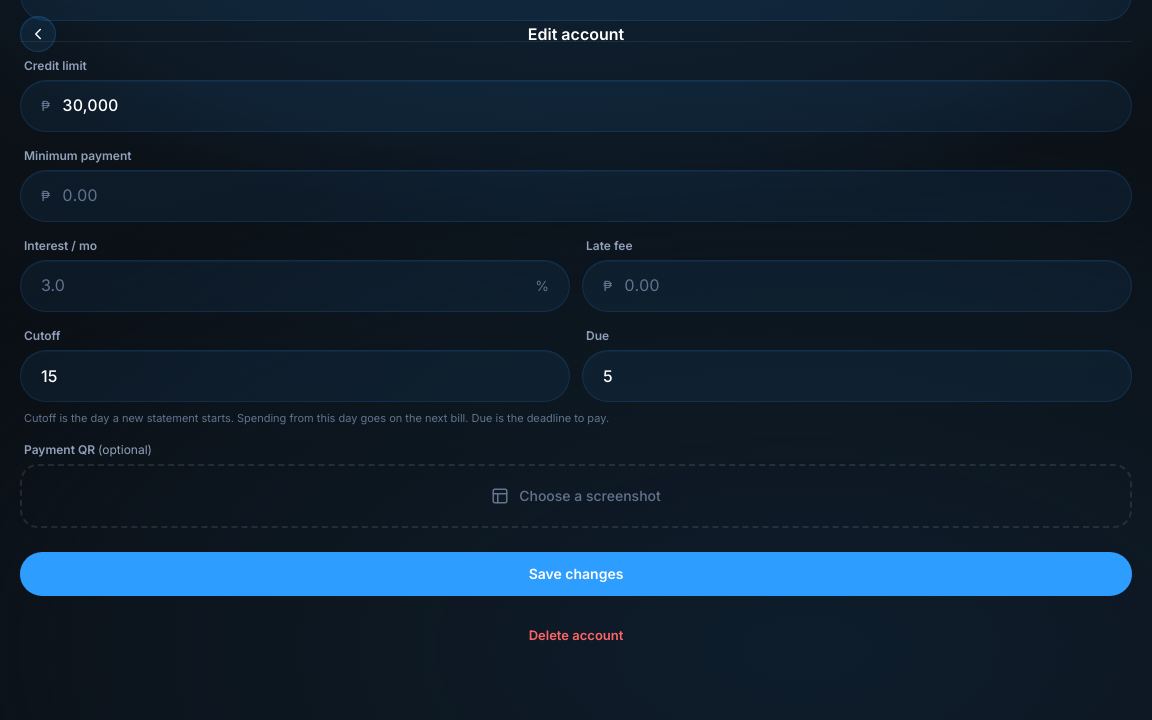
Test: the cutoff and statement days › brings the statement day back when the cutoff is cleared
(page scrolled)
Clear the 1st number field at [295, 376], box top-left (20, 350), bottom-right (570, 402)
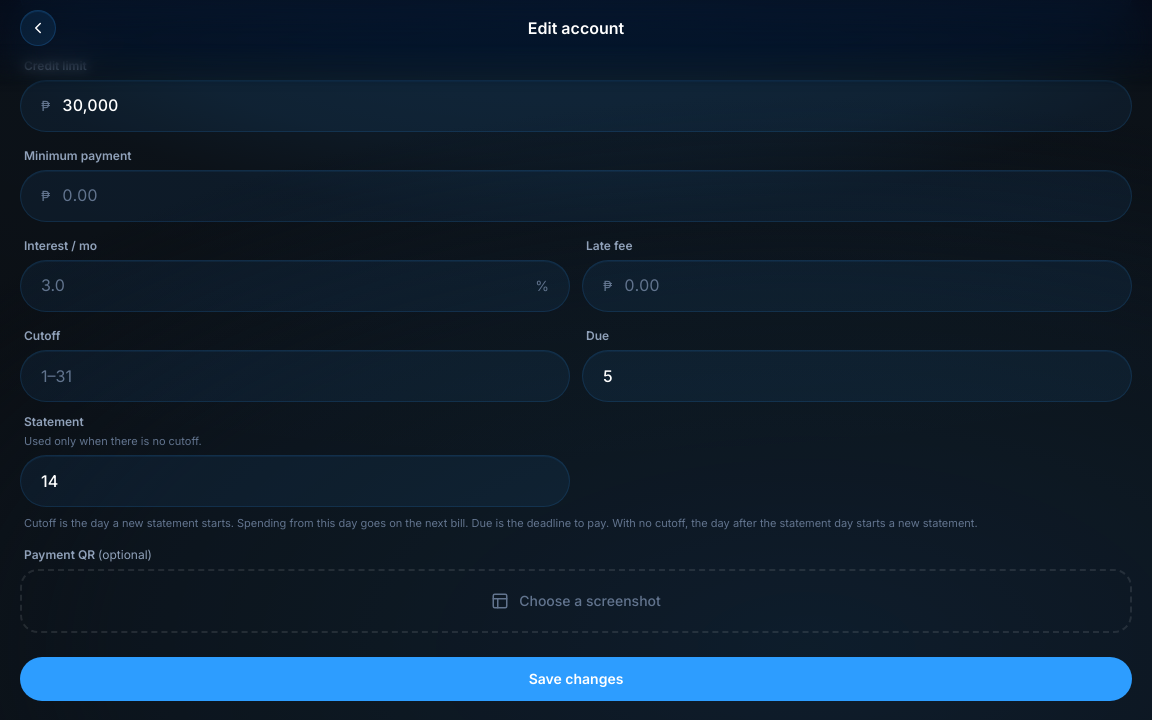
Result: the text "Statement" is shown at top-left (24, 414), bottom-right (84, 429)
